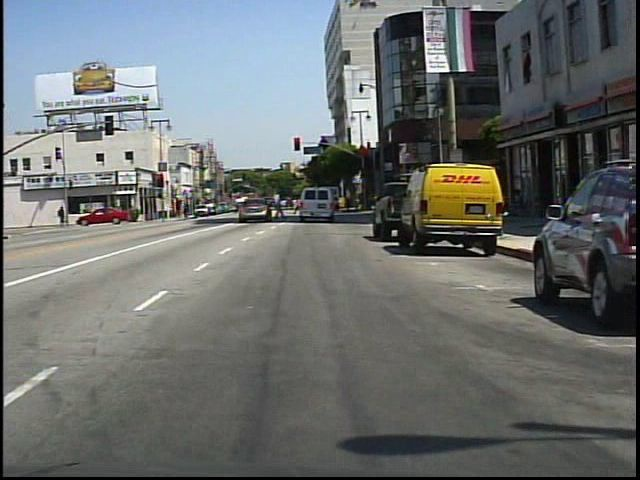person: (506, 183, 531, 224), (272, 192, 290, 224), (290, 196, 303, 218), (58, 206, 67, 225)
